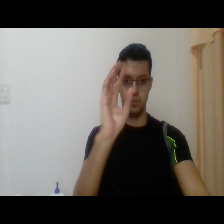left: (97, 58, 141, 146)
